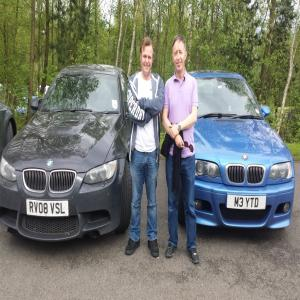Vehicle-registration-plate: (27, 201, 70, 217), (227, 195, 267, 212)
